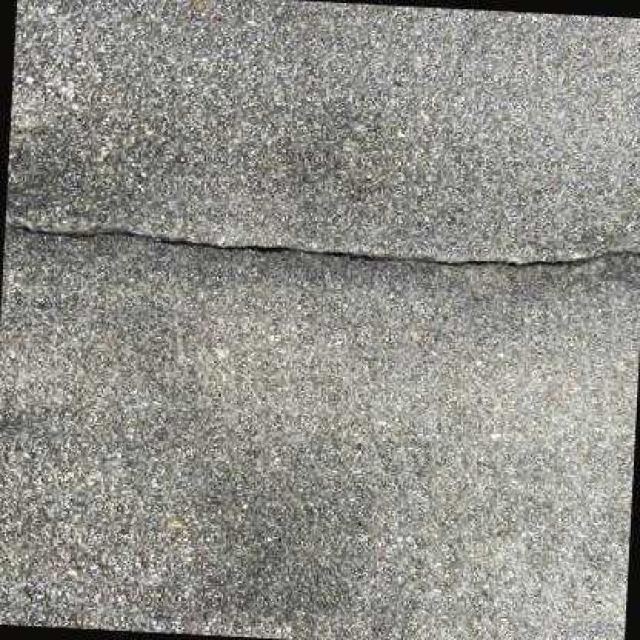D00: (5, 222, 640, 266)
